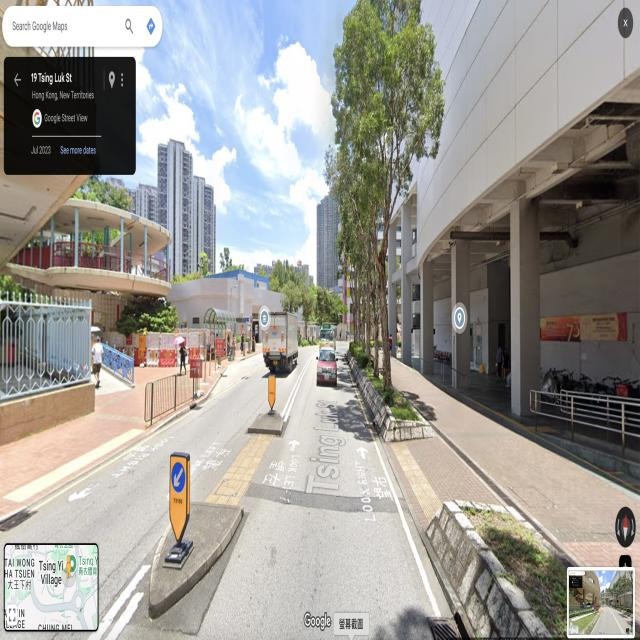Order-Sign: (172, 461, 185, 491)
Warning-Sign: (190, 360, 202, 378), (216, 338, 224, 356)
